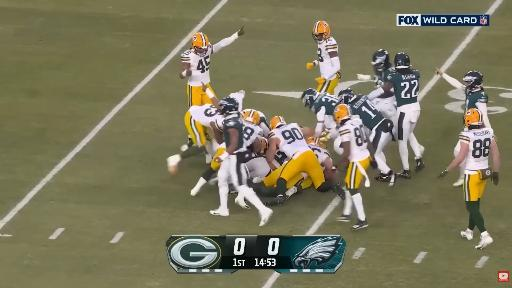Helmet: (192, 33, 210, 57), (463, 71, 482, 91), (372, 49, 389, 71), (219, 97, 239, 115), (313, 21, 329, 43), (302, 88, 319, 108), (464, 109, 482, 127), (334, 104, 351, 123), (243, 109, 260, 125), (338, 88, 355, 104), (394, 53, 410, 69), (270, 116, 286, 130), (306, 137, 326, 148)
Jersey: (459, 128, 494, 174), (269, 123, 309, 158), (339, 119, 370, 162), (181, 46, 212, 86), (350, 95, 384, 130), (387, 70, 419, 107), (318, 37, 338, 80), (189, 104, 223, 126), (222, 117, 244, 150), (313, 94, 338, 115), (309, 144, 330, 168), (465, 90, 488, 110), (243, 122, 262, 146), (374, 67, 395, 87), (275, 149, 288, 165)
Player: (439, 108, 499, 248), (210, 97, 272, 226), (368, 53, 424, 178), (266, 116, 341, 194), (334, 104, 376, 229), (180, 27, 244, 106), (341, 92, 395, 185), (167, 86, 222, 174), (436, 68, 491, 128), (307, 21, 340, 94), (302, 89, 338, 137), (266, 173, 312, 205), (357, 50, 395, 88), (357, 49, 394, 88), (247, 138, 272, 182), (243, 112, 266, 153), (242, 109, 269, 137)
